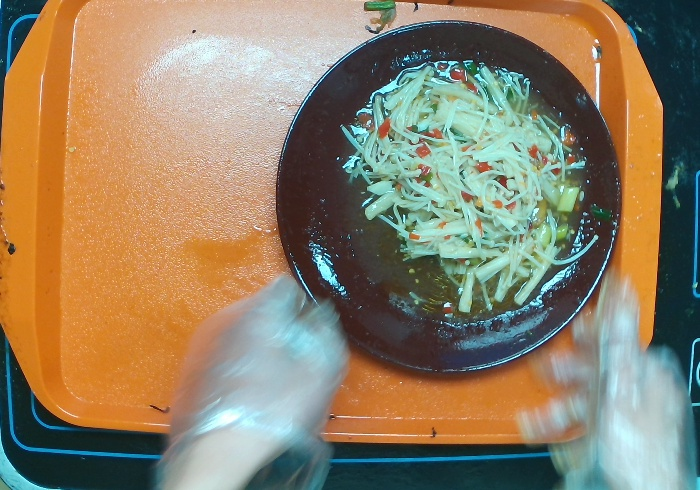HZYJPL-Ka_Fei_Yuan_Pan: (268, 11, 630, 380)
